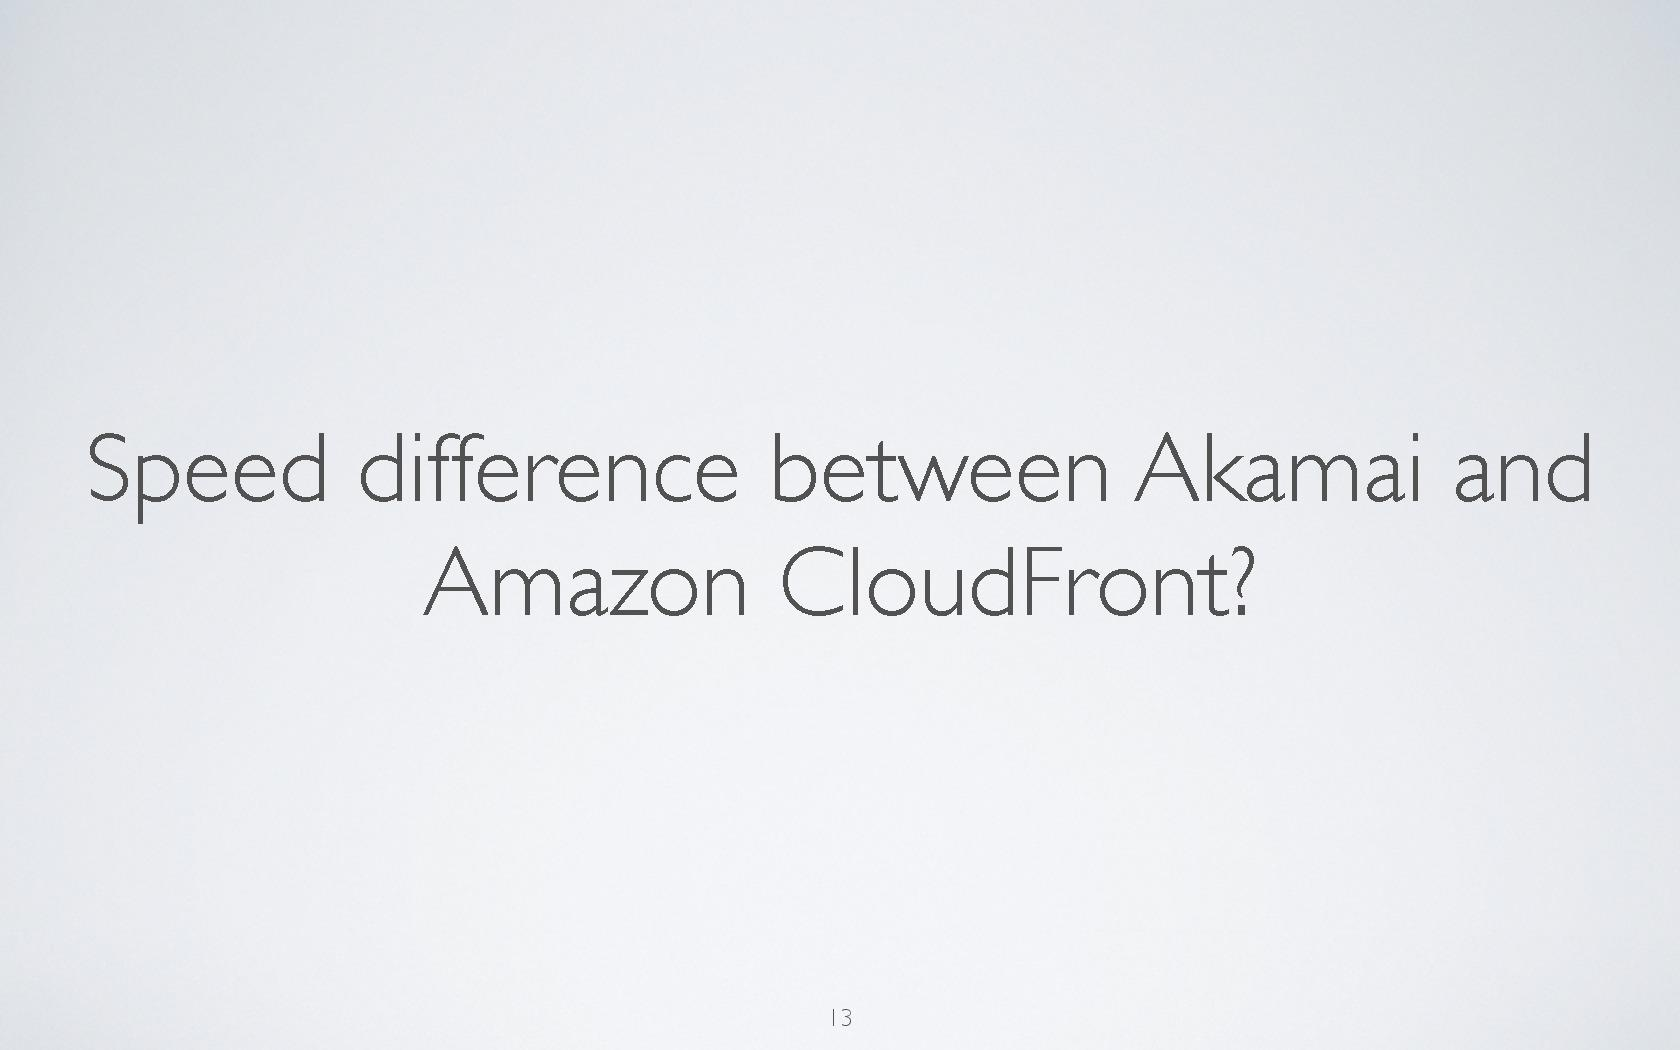title: (46, 403, 1594, 682)
